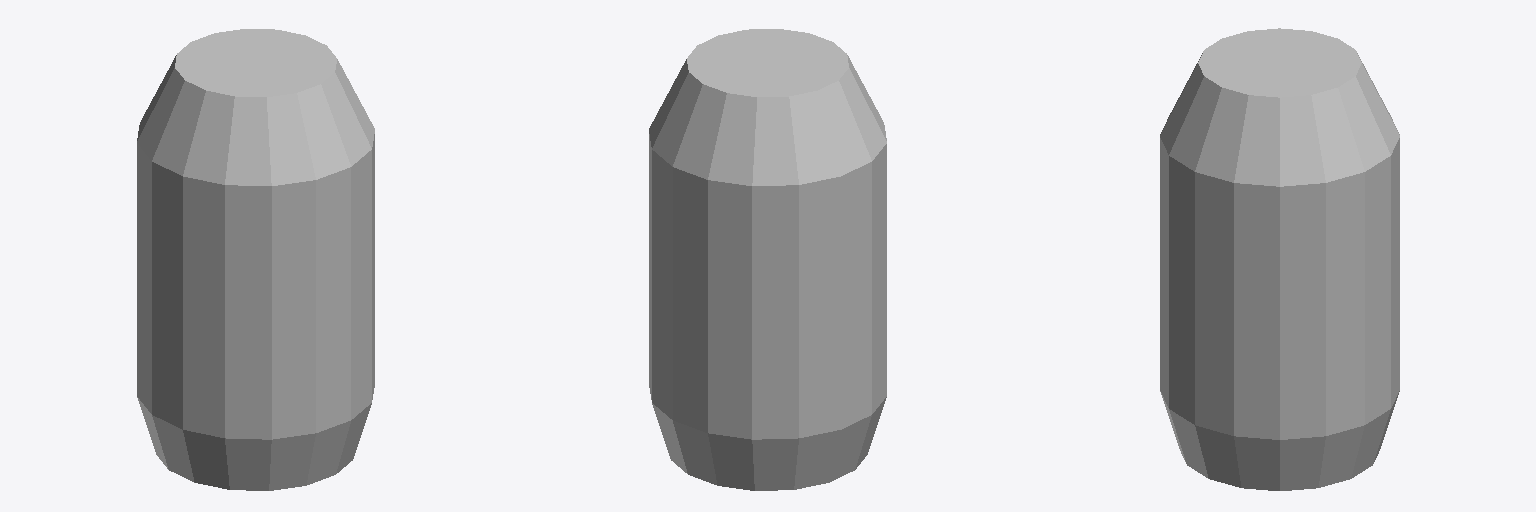
File: midrot.obj
3 views of the same model, side by side, from view 1: azimuth 30°, elevation 25°; view 2: azimuth 150°, elevation 25°; view 3: azimuth 270°, elevation 25° (orthographic).
Parts seen in each view (by area): view 1: Cylinder.008_Cylinder.017; view 2: Cylinder.008_Cylinder.017; view 3: Cylinder.008_Cylinder.017.
Boxes of the visible parts, box(x1,y1,x2,y2) form: Cylinder.008_Cylinder.017: box(137, 29, 374, 490); Cylinder.008_Cylinder.017: box(649, 29, 886, 490); Cylinder.008_Cylinder.017: box(1160, 28, 1399, 490).
Size of the model in its own units: 3.3 by 5.84 by 3.3.